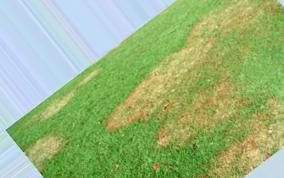patch: (142, 83, 216, 111), (219, 148, 260, 167), (190, 118, 225, 130), (176, 54, 197, 69), (114, 106, 136, 120), (30, 141, 44, 157), (199, 26, 212, 40), (45, 108, 51, 111)
